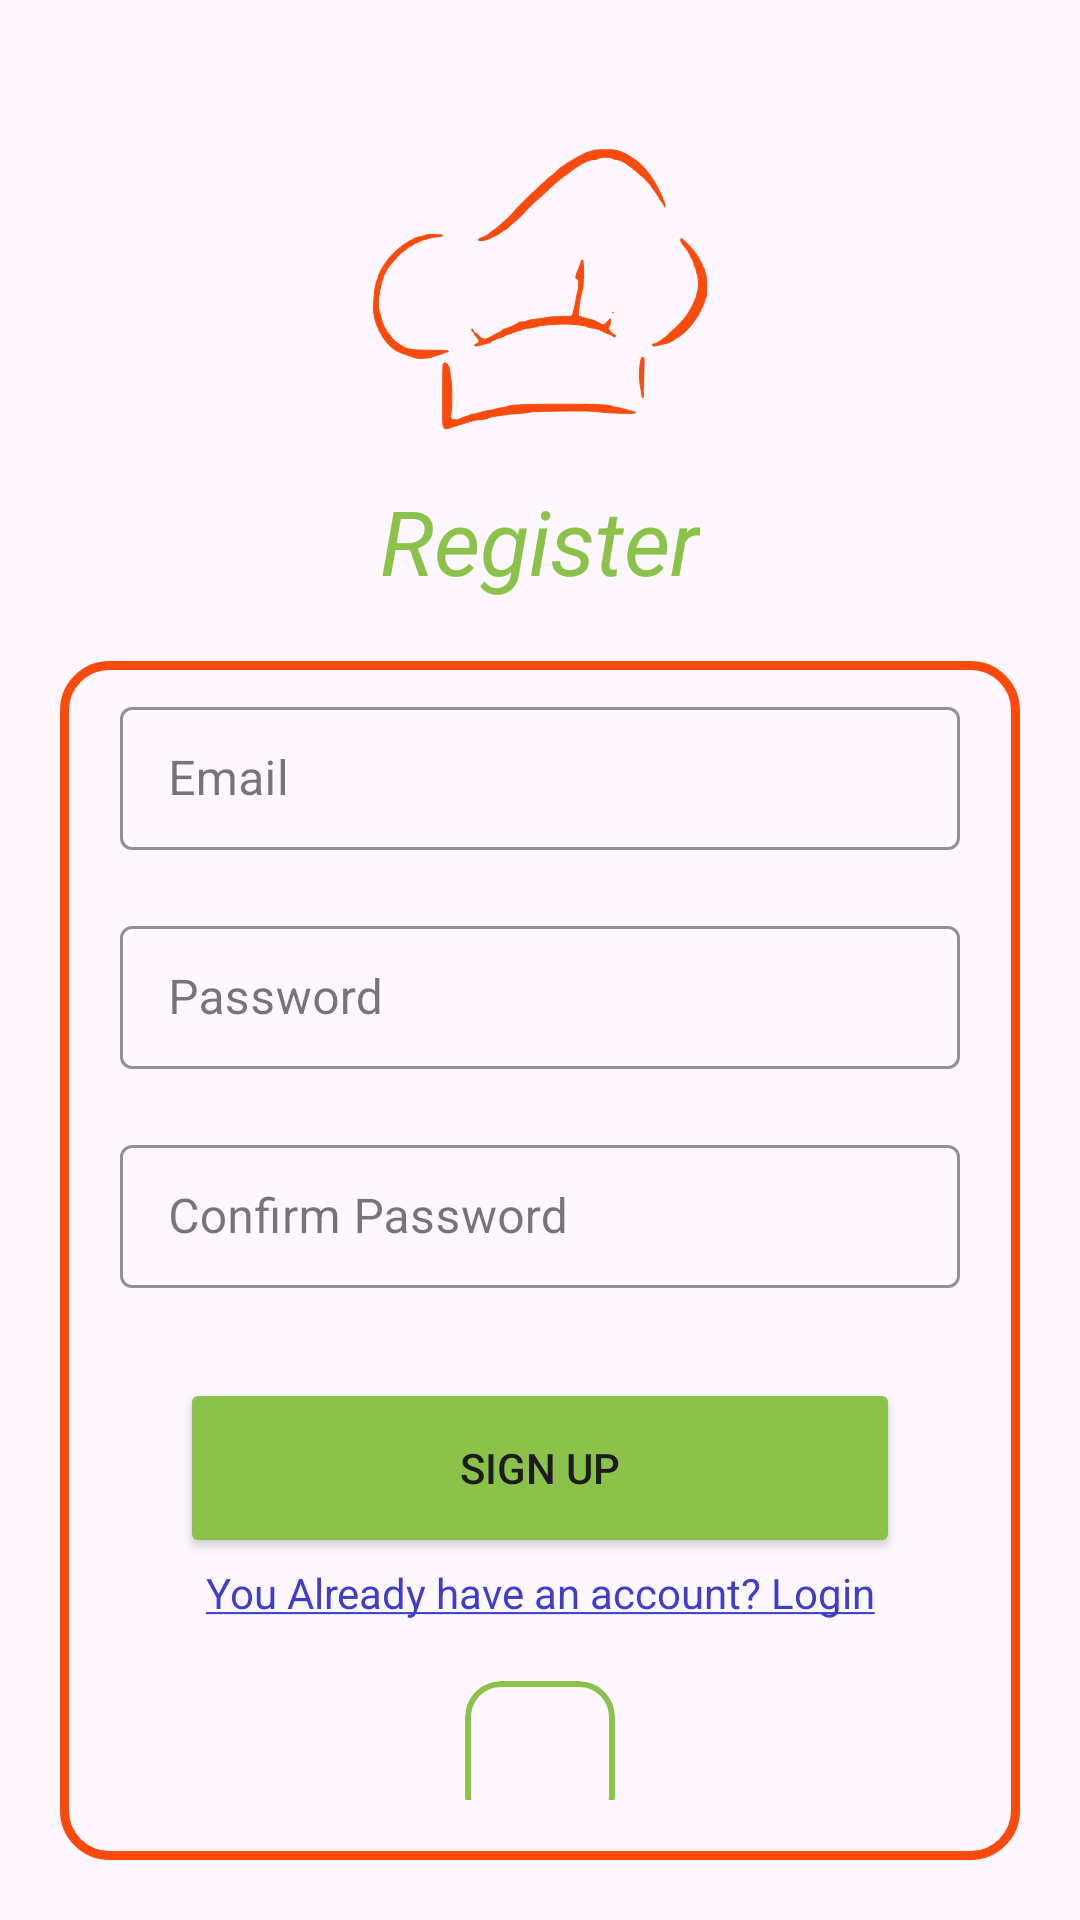

Where icons sit on this 1080px x 1920px app screen, as (x1, y1, x2, y2):
chef: (373, 149, 708, 430)
